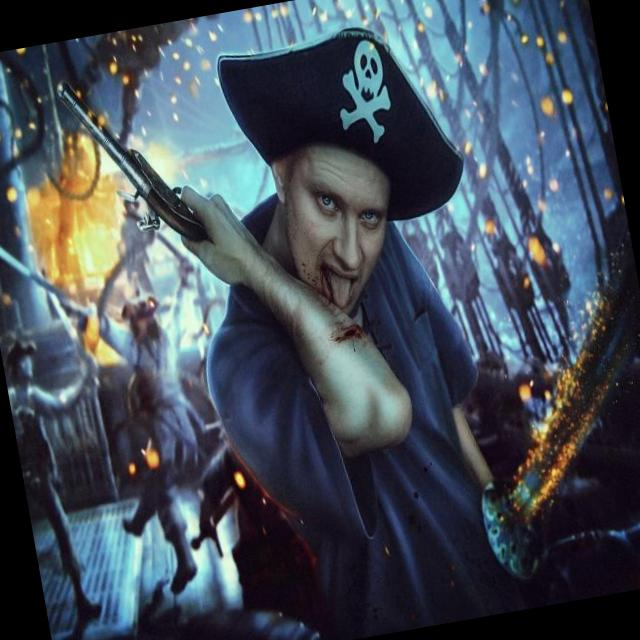Gun: (56, 83, 207, 241)
